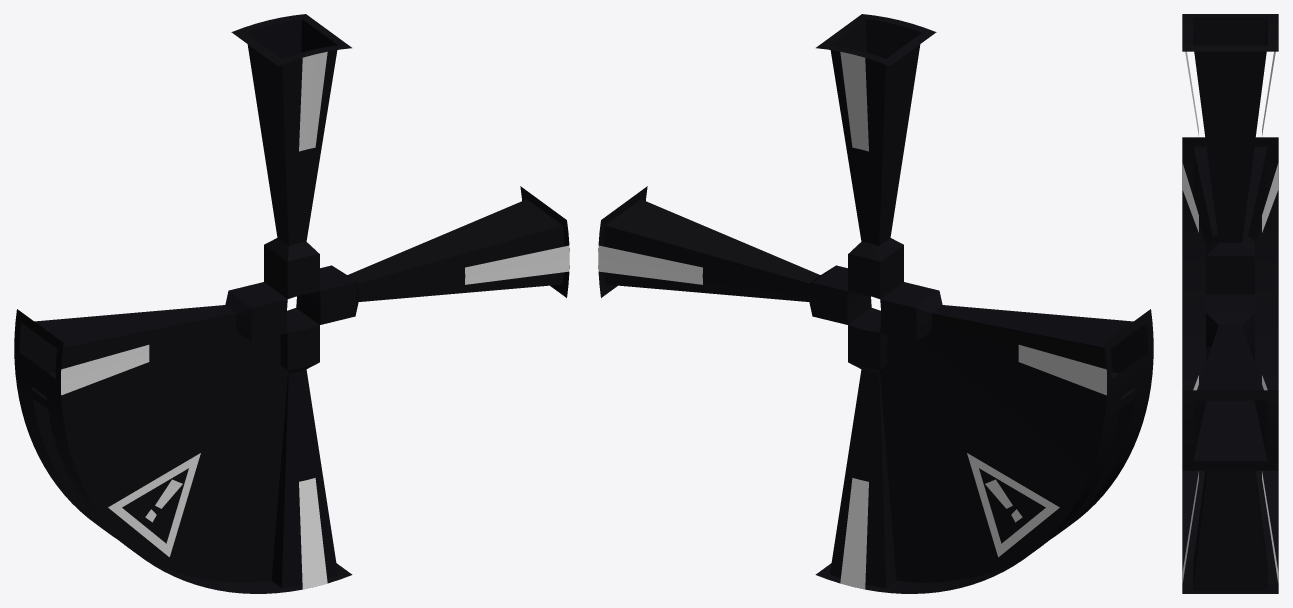
File: LD50-Obstacle-Tower-Four-02.glb
3 renders of one model, left to right at view 1: azimuth 30°, elevation 25°; view 2: azimuth 150°, elevation 25°; view 3: azimuth 270°, elevation 25°, orthographic. The views are drawn at different scales.
Visible parts, largest first — view 1: Obstacle-Tower-four-02; view 2: Obstacle-Tower-four-02; view 3: Obstacle-Tower-four-02.
Boxes of the visible parts, x1,y1,x2,y2 form: Obstacle-Tower-four-02: (14, 14, 569, 593); Obstacle-Tower-four-02: (598, 14, 1153, 593); Obstacle-Tower-four-02: (1182, 14, 1278, 593).
Bounding box in the file's own units: 30 × 30 × 4.76.
2 materials, 1 textured.
